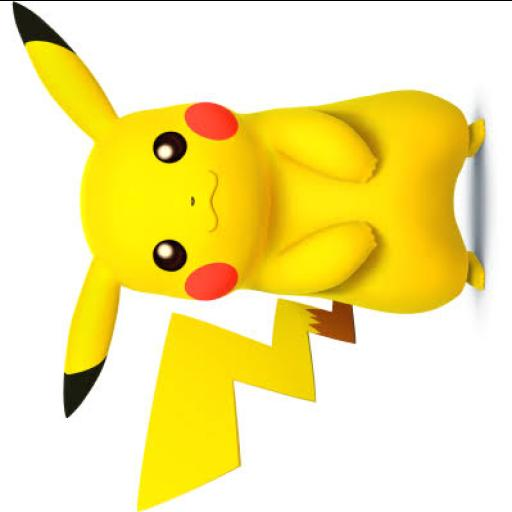Pikachu: (11, 0, 486, 508)
